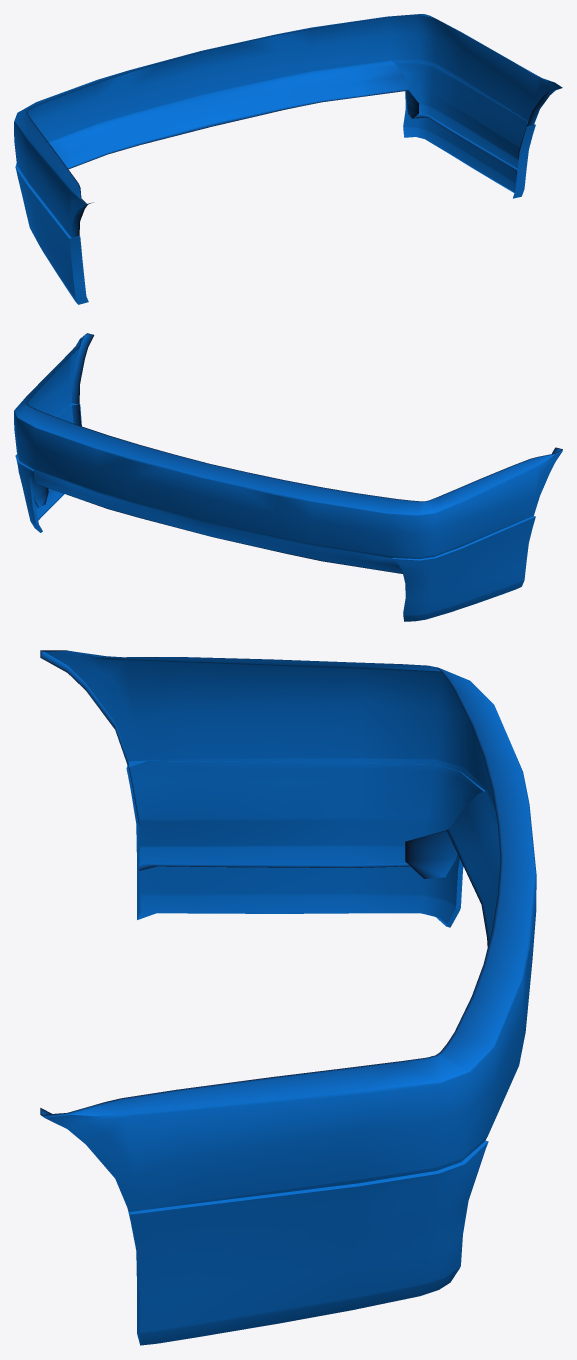
The model's file is BMW_E36_BB02_Duco.fbx.
3 renders of one model, top to bottom at view 1: azimuth 30°, elevation 25°; view 2: azimuth 150°, elevation 25°; view 3: azimuth 270°, elevation 25°, orthographic. The views are drawn at different scales.
Visible parts, largest first — view 1: BMW_E36_BB02_Duco; view 2: BMW_E36_BB02_Duco; view 3: BMW_E36_BB02_Duco.
Part boxes in pixels (box(x1,y1,x2,y2)): BMW_E36_BB02_Duco: box(14, 14, 562, 304); BMW_E36_BB02_Duco: box(14, 333, 562, 621); BMW_E36_BB02_Duco: box(40, 650, 536, 1345).
Bounding box in the file's own units: 1.66 × 0.4479 × 0.7473.
